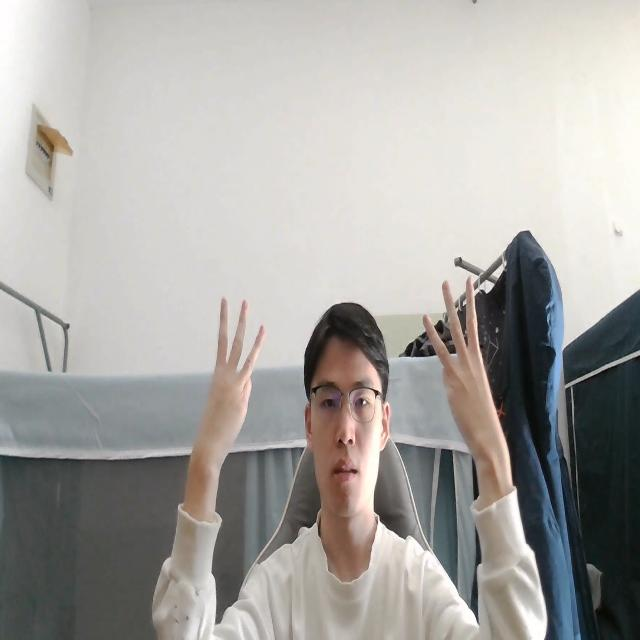three: (420, 272, 507, 470), (197, 292, 266, 458)
